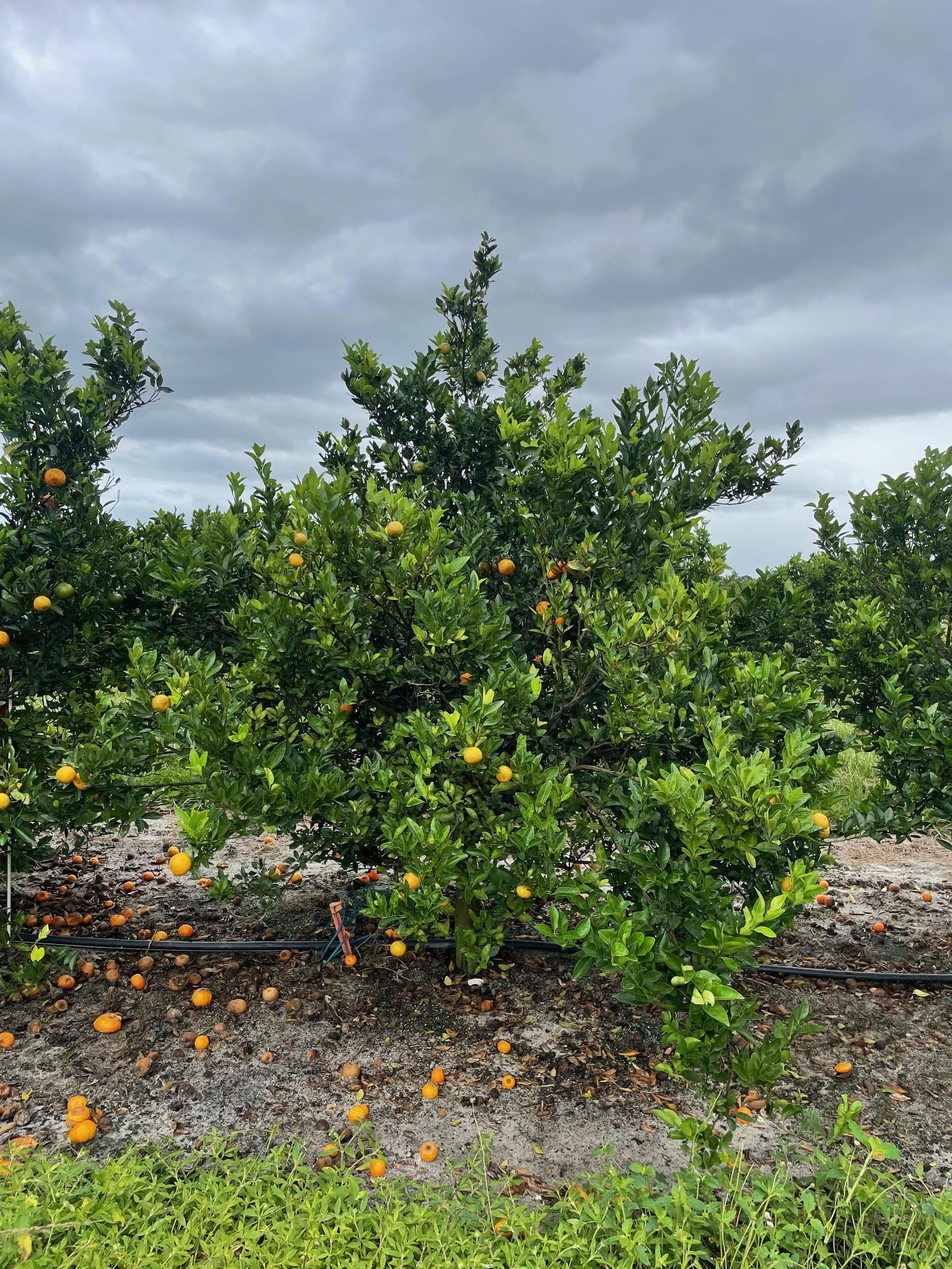fruit_on_ground: (167, 851, 194, 877), (41, 464, 68, 489), (566, 554, 591, 580), (533, 598, 557, 621), (72, 768, 96, 791), (149, 690, 173, 713), (36, 491, 61, 513), (52, 579, 77, 601), (333, 697, 356, 720), (545, 607, 569, 629), (461, 745, 485, 767), (577, 537, 602, 558), (475, 556, 497, 579), (547, 555, 570, 577), (495, 556, 518, 578), (54, 763, 78, 784), (778, 874, 801, 895), (30, 593, 53, 614), (513, 880, 535, 901), (401, 870, 423, 891), (494, 764, 516, 785), (384, 518, 407, 538), (457, 667, 478, 688), (809, 812, 831, 831), (104, 589, 125, 608), (7, 779, 27, 798), (812, 823, 833, 841), (286, 551, 307, 569), (528, 652, 547, 670), (410, 459, 429, 477), (291, 530, 310, 548), (436, 340, 454, 357), (621, 485, 639, 502), (472, 369, 488, 386), (0, 789, 12, 811), (0, 627, 11, 649), (544, 566, 560, 581), (114, 680, 130, 694)
fruit_on_tree: (67, 1120, 97, 1144), (63, 1105, 92, 1129), (93, 1011, 122, 1033), (491, 1215, 516, 1239), (347, 1102, 371, 1124), (418, 1140, 440, 1163), (733, 1105, 756, 1126), (568, 1182, 589, 1204), (191, 986, 213, 1007), (66, 1094, 89, 1114), (338, 1061, 361, 1079), (226, 996, 248, 1014), (388, 939, 409, 957), (369, 1157, 387, 1178), (166, 975, 187, 992), (260, 984, 279, 1002), (210, 1020, 229, 1037), (315, 1154, 334, 1171), (429, 1066, 446, 1085), (420, 1082, 439, 1099), (320, 1142, 340, 1158), (56, 973, 76, 989), (0, 1029, 16, 1049), (495, 1037, 513, 1054), (500, 1072, 517, 1090), (21, 981, 40, 997), (137, 954, 156, 970), (129, 972, 146, 989), (193, 1033, 210, 1050), (49, 914, 68, 929), (65, 911, 82, 927), (276, 948, 293, 963), (177, 922, 194, 937), (109, 912, 126, 927), (196, 875, 215, 888), (478, 997, 493, 1013), (105, 968, 121, 983), (187, 971, 203, 986), (259, 1049, 275, 1064), (343, 952, 359, 967), (175, 953, 192, 967), (52, 998, 69, 1012), (264, 866, 281, 880), (367, 867, 382, 882), (165, 843, 180, 858), (274, 861, 290, 875), (284, 996, 301, 1009), (815, 891, 829, 906), (23, 912, 38, 926), (872, 919, 887, 933), (383, 926, 399, 939), (41, 913, 57, 926), (152, 929, 168, 942), (289, 871, 304, 884), (34, 889, 49, 902), (817, 877, 831, 890), (887, 880, 901, 893), (121, 906, 135, 919), (920, 889, 934, 902), (823, 893, 836, 907), (215, 858, 229, 870), (137, 927, 151, 939), (154, 853, 167, 865), (58, 928, 72, 939), (141, 870, 155, 881), (105, 958, 117, 970), (103, 897, 116, 908), (71, 853, 84, 864), (80, 913, 92, 924), (66, 871, 78, 882), (123, 880, 135, 891), (359, 874, 370, 885), (58, 884, 69, 894), (88, 856, 99, 866), (262, 835, 274, 844)
